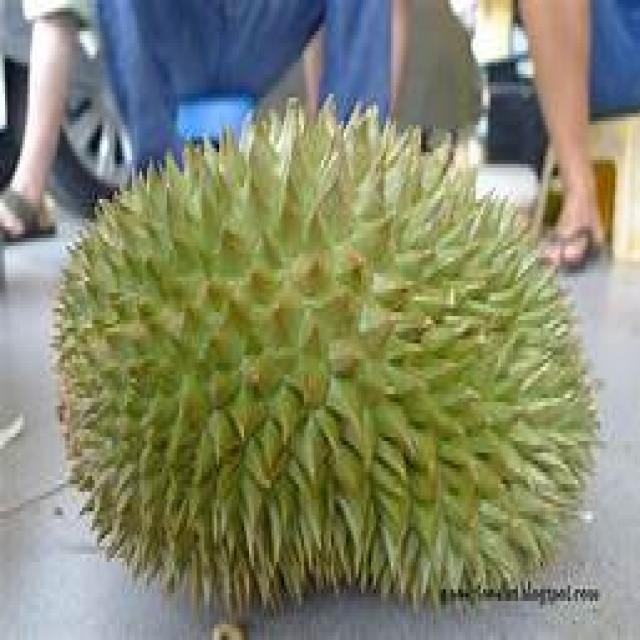immature: (50, 95, 609, 623)
